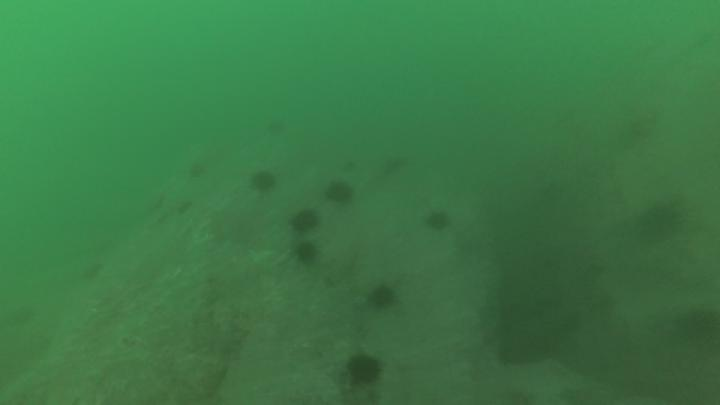echinus: (635, 200, 682, 248), (344, 352, 385, 391), (288, 207, 324, 239), (322, 178, 359, 208), (367, 281, 397, 316), (249, 167, 279, 197), (292, 239, 321, 269), (423, 209, 456, 234), (381, 153, 410, 177), (82, 259, 106, 285), (263, 116, 290, 139), (174, 196, 194, 219), (188, 160, 207, 183)
